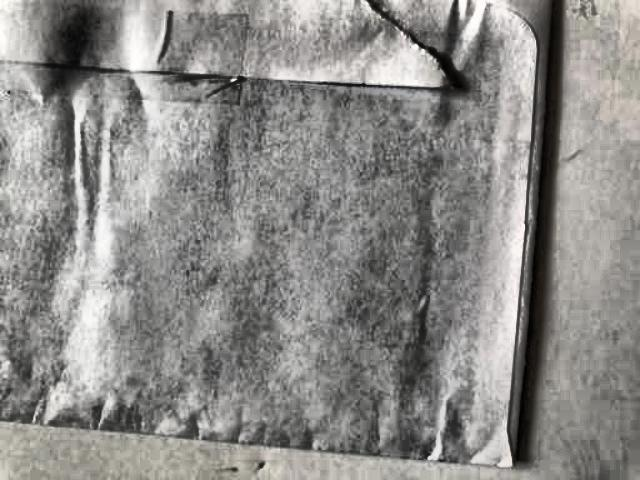Paper: (0, 0, 575, 480)
